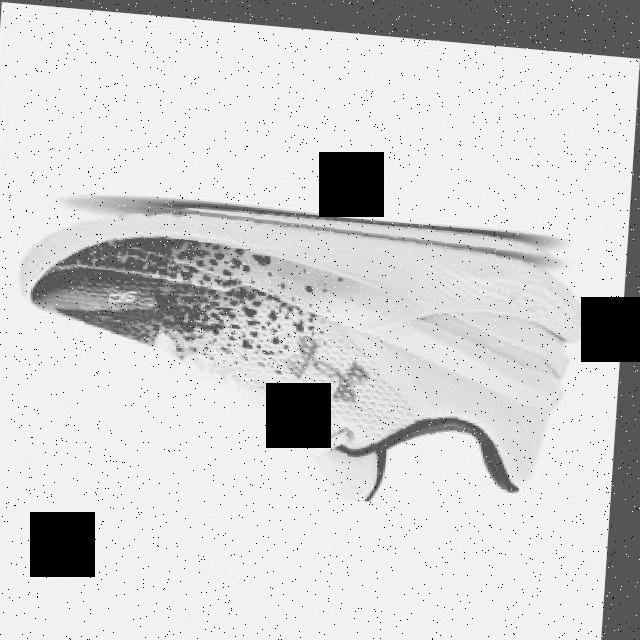shoe: (13, 189, 595, 508)
